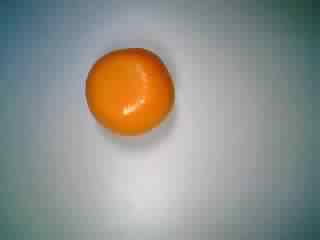orange: (82, 44, 177, 138)
